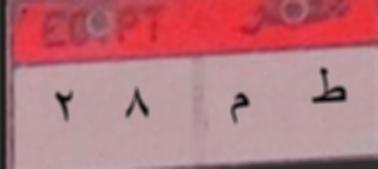2: (51, 85, 82, 125)
8: (117, 82, 155, 126)
Taa: (306, 63, 349, 115)
meem: (222, 88, 258, 129)
